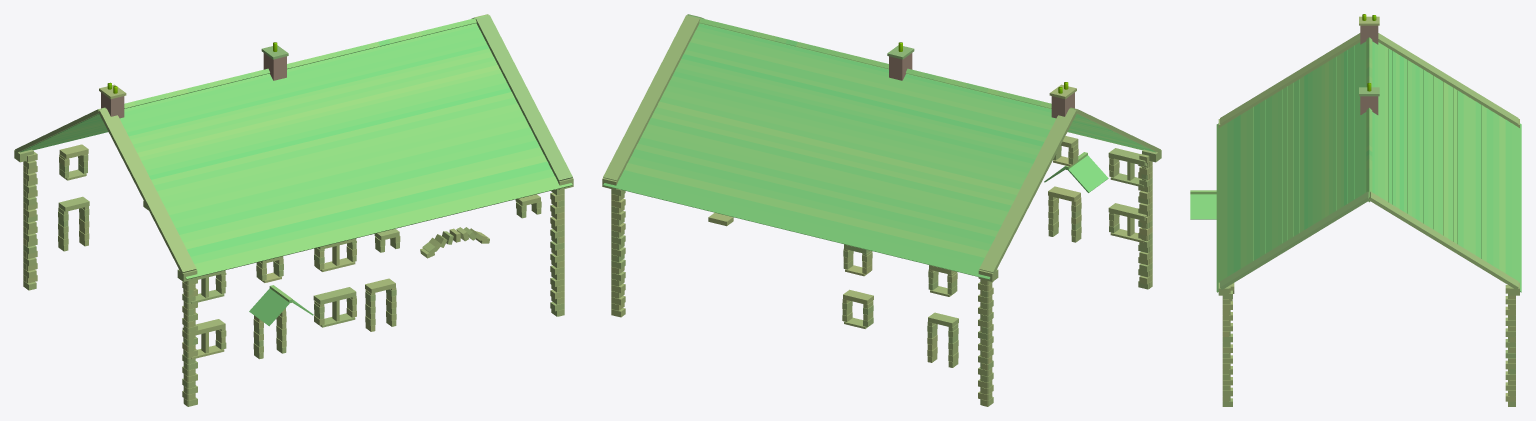
File: SM_Bld_111_Stone.glb
3 renders of one model, left to right at view 1: azimuth 30°, elevation 25°; view 2: azimuth 150°, elevation 25°; view 3: azimuth 270°, elevation 25°, orthographic. The views are drawn at different scales.
Visible parts, largest first — view 1: SM_Bld_111_Stone; view 2: SM_Bld_111_Stone; view 3: SM_Bld_111_Stone.
Boxes of the visible parts, x1=… form: SM_Bld_111_Stone: x1=14, y1=14, x2=573, y2=406; SM_Bld_111_Stone: x1=602, y1=14, x2=1161, y2=406; SM_Bld_111_Stone: x1=1190, y1=14, x2=1521, y2=406.
Bounding box in the file's own units: 20.2 × 12.97 × 16.71.
